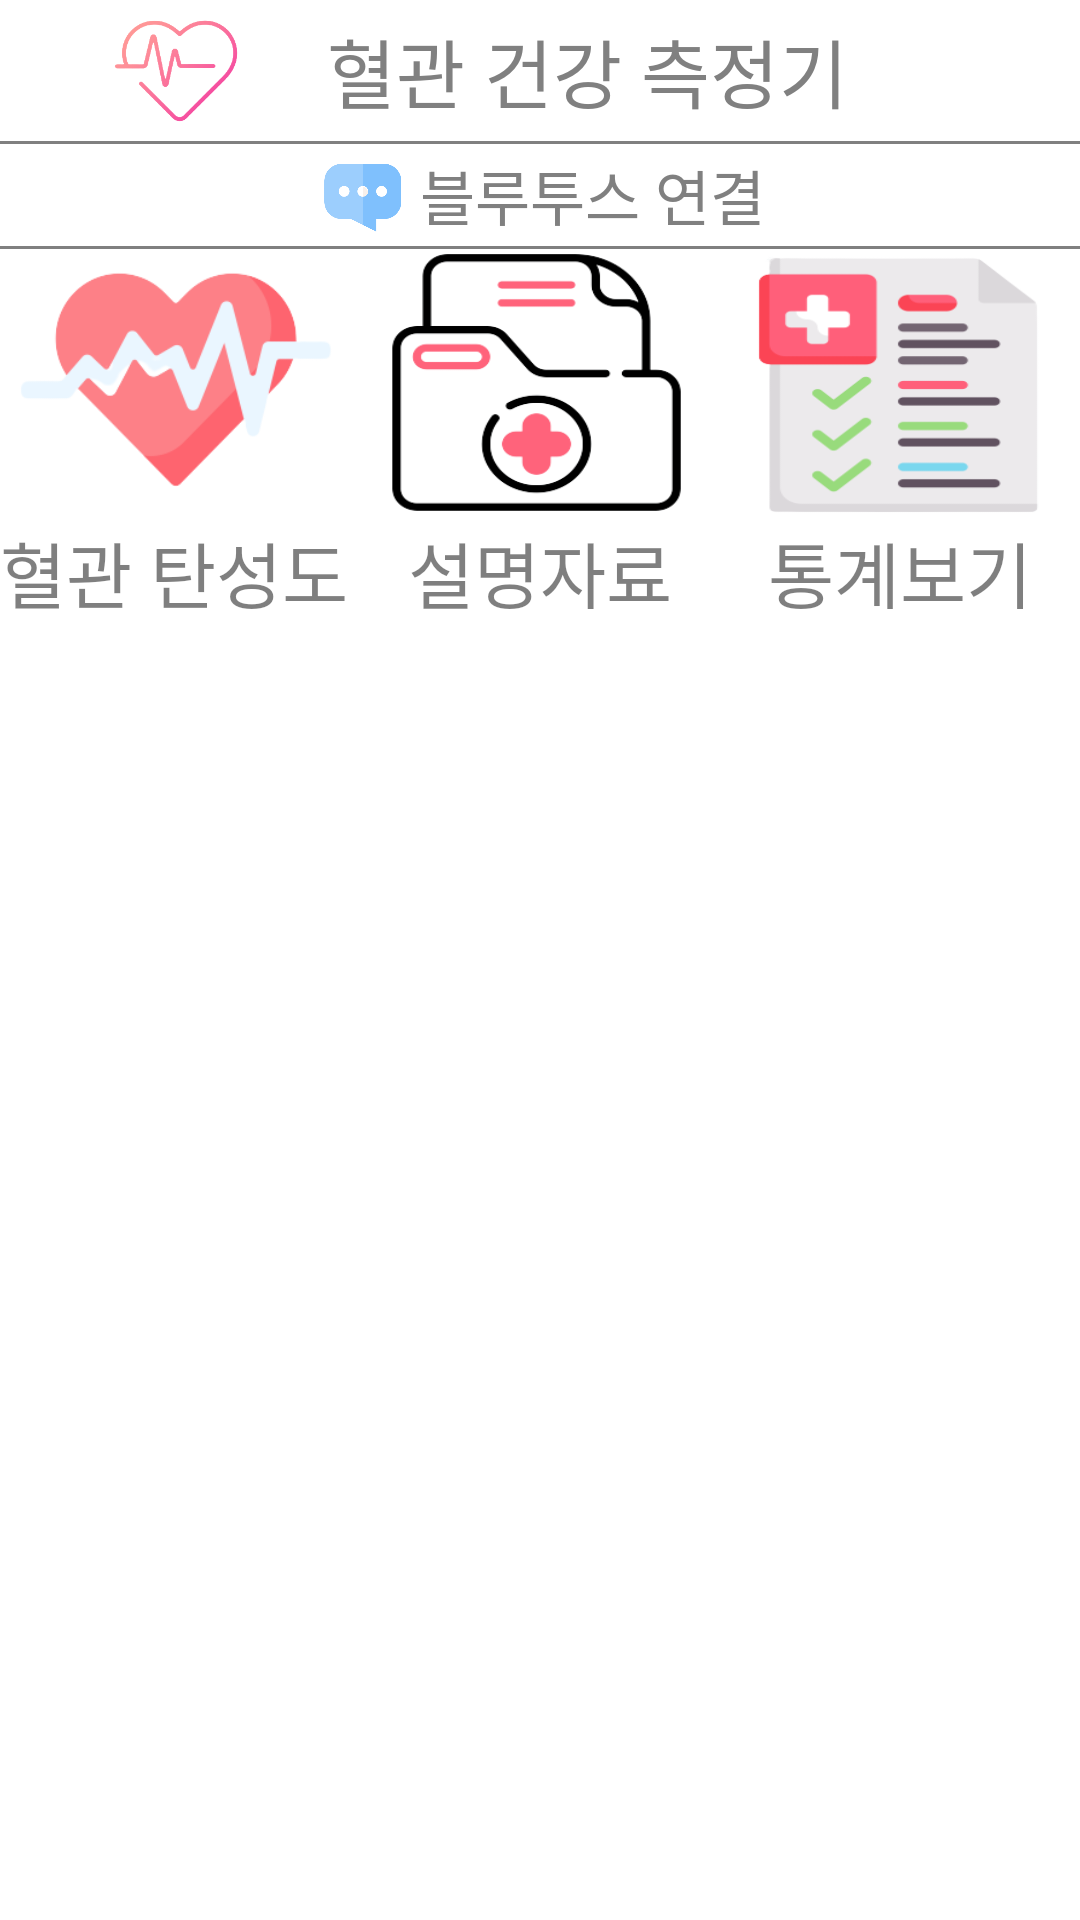

Where to tap for icons on this 1080x1920 app screen, as (x,y):
mes: (362,197)
